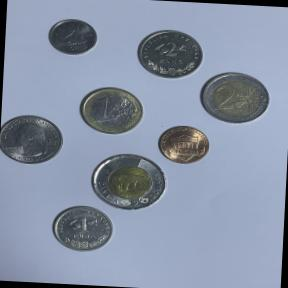coin: (194, 68, 278, 130), (89, 152, 171, 214), (132, 26, 206, 82), (0, 110, 67, 171), (73, 84, 148, 138), (154, 122, 214, 168), (45, 14, 101, 60)
